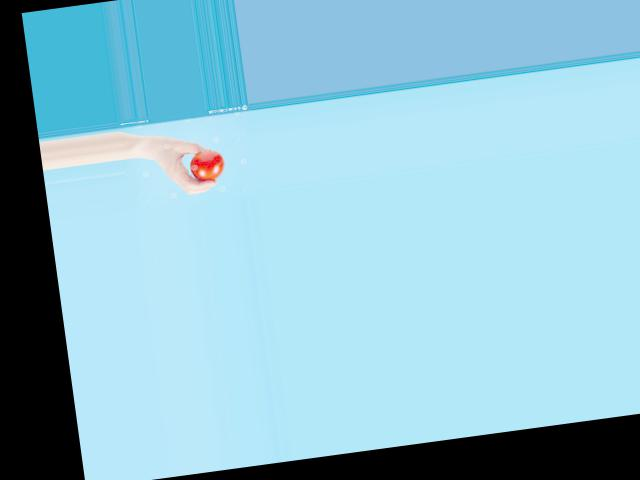tomato: (188, 149, 225, 183)
